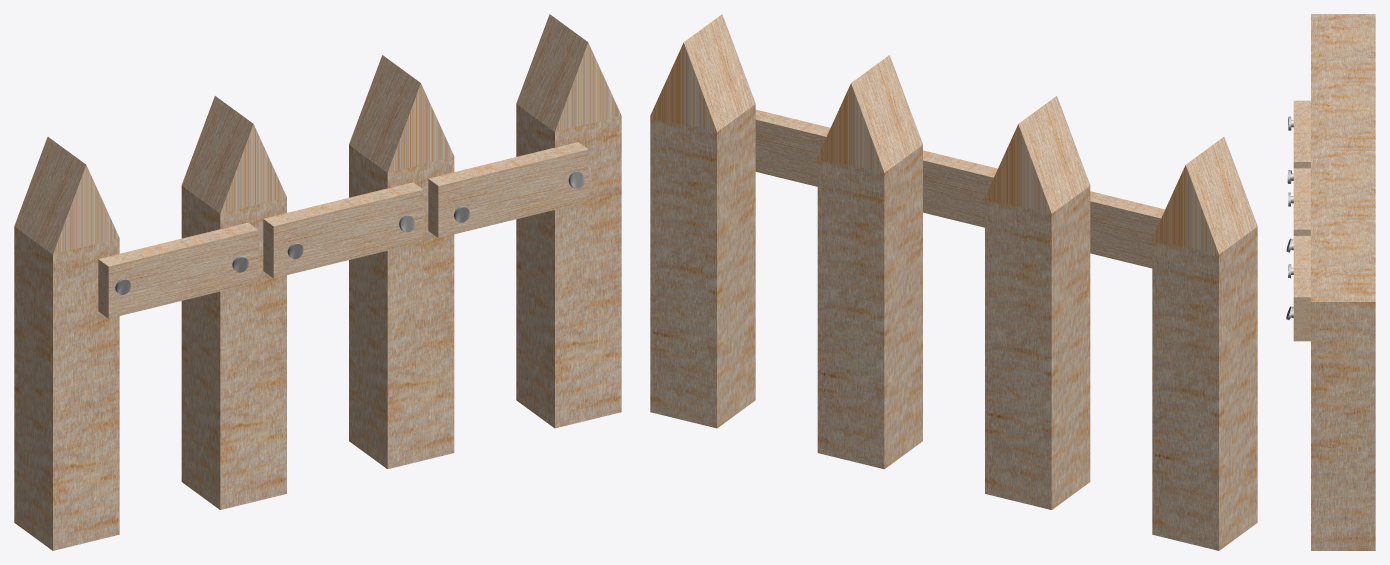
Rendered from vallaCentro.fbx.
3 views of the same model, side by side, from view 1: azimuth 30°, elevation 25°; view 2: azimuth 150°, elevation 25°; view 3: azimuth 270°, elevation 25° (orthographic). The views are drawn at different scales.
Parts seen in each view (by area): view 1: valla, tabla; view 2: valla, tabla; view 3: valla, tabla.
Part boxes in pixels (x1=…): valla: x1=14, y1=14, x2=621, y2=550; tabla: x1=98, y1=142, x2=588, y2=318; valla: x1=650, y1=14, x2=1257, y2=550; tabla: x1=755, y1=109, x2=1164, y2=268; valla: x1=1311, y1=14, x2=1375, y2=550; tabla: x1=1293, y1=100, x2=1310, y2=341.
Size of the model in its own units: 597 by 379 by 97.04.
Materials: 8 (8 with a texture image).
